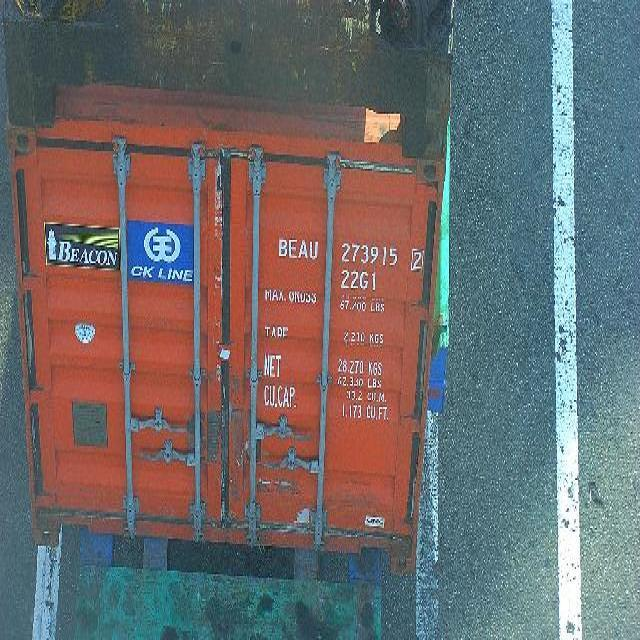ISO: (341, 270, 378, 292)
container_number: (278, 240, 425, 268)
